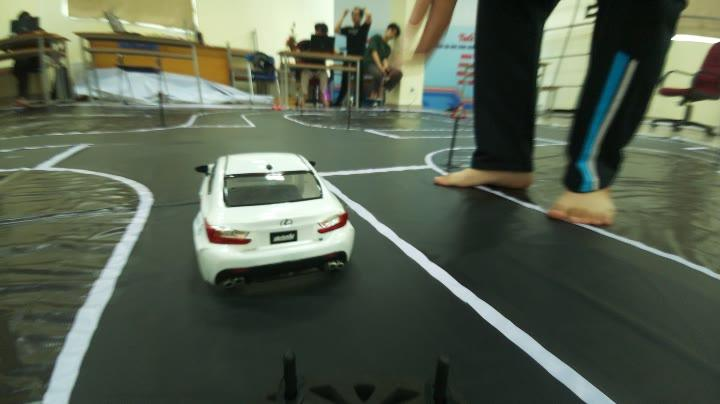car: (175, 146, 361, 289)
